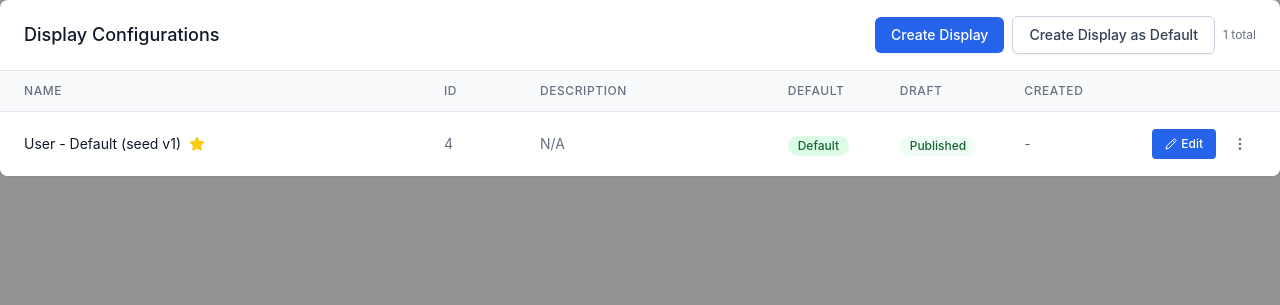
Test case: DisplayConfigurationTable export/import (knk-displayconfig/1) › offers Export JSON in the row menu
The width and height of the screenshot is (1280, 305).
Click the button named "More actions for User - Default (seed v1)" at (1240, 144), box top-left (1224, 128), bottom-right (1256, 160)
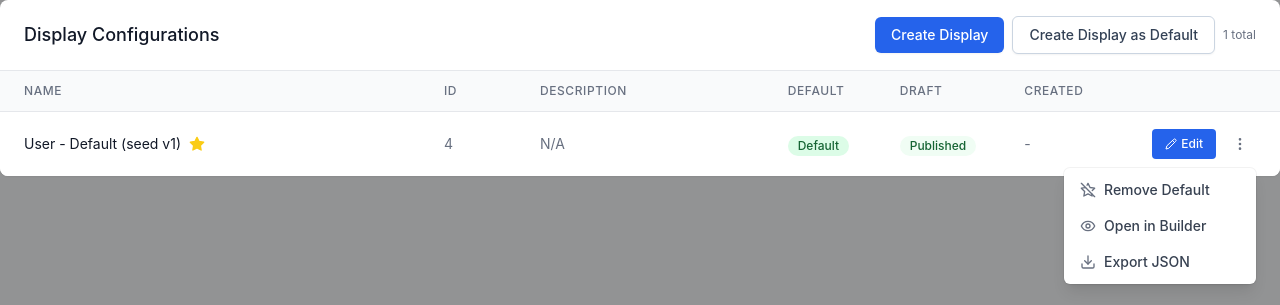
Click the menu item "Export JSON" at (1160, 262), box top-left (1064, 244), bottom-right (1256, 280)
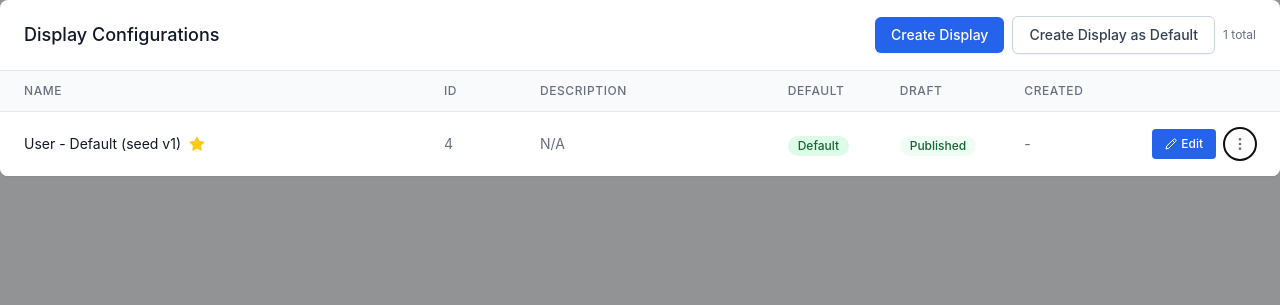
Expected: the menu item "Export JSON" is gone
